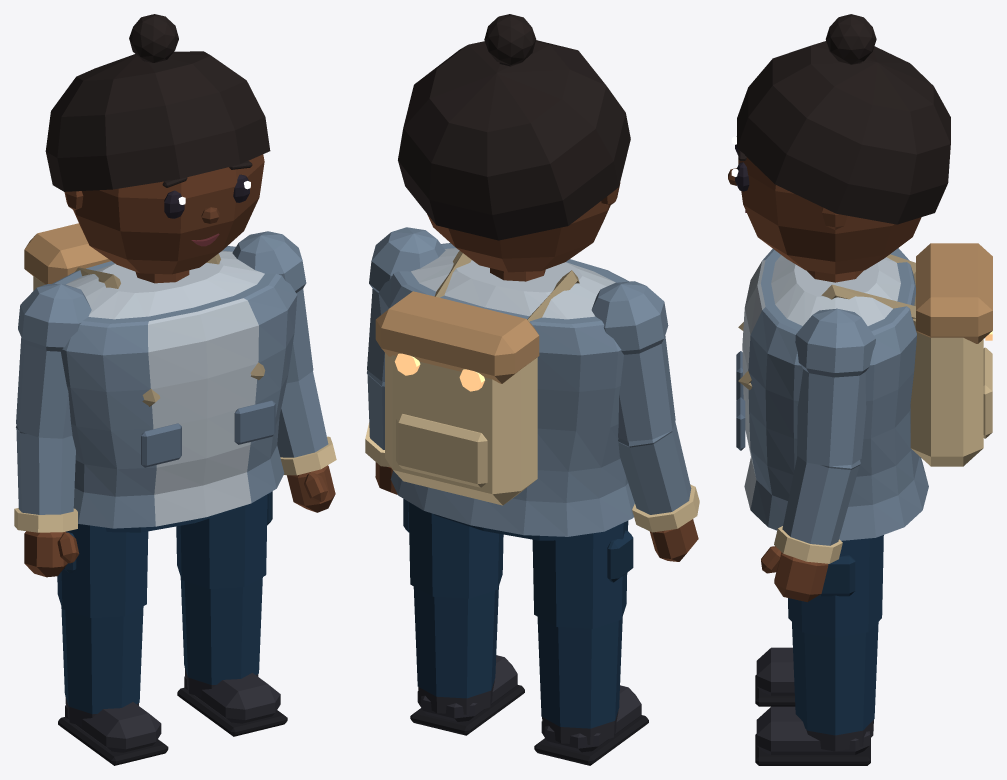
Rendered from rin-k2.glb.
3 views of the same model, side by side, from view 1: azimuth 30°, elevation 25°; view 2: azimuth 150°, elevation 25°; view 3: azimuth 270°, elevation 25° (orthographic). The views are drawn at different scales.
Parts seen in each view (by area): view 1: jacke, haare, bein_r, bein_l, arm_r, kopf, arm_l, torso, schuh_r, schuh_l, accessoire_backpack, taschen (+4 smaller); view 2: haare, accessoire_backpack, jacke, bein_r, bein_l, arm_r, torso, kopf, arm_l, schuh_r, schuh_l, hand_r; view 3: haare, jacke, accessoire_backpack, arm_l, bein_l, kopf, torso, schuh_l, hand_l, schuh_r, taschen, gesicht.
Part boxes in pixels (box(x1,y1,x2,y2)): jacke: box(52, 246, 297, 528); haare: box(45, 14, 270, 191); bein_r: box(57, 524, 148, 714); bein_l: box(176, 491, 272, 684); arm_r: box(14, 284, 91, 532); kopf: box(64, 154, 264, 274); arm_l: box(232, 231, 336, 475); torso: box(66, 250, 264, 319); schuh_r: box(58, 697, 168, 765); schuh_l: box(177, 667, 287, 736); accessoire_backpack: box(24, 223, 265, 406); taschen: box(141, 400, 275, 467); haare: box(398, 14, 630, 240); accessoire_backpack: box(375, 251, 579, 505); jacke: box(378, 243, 634, 536); bein_r: box(532, 521, 633, 728); bein_l: box(403, 499, 503, 698); arm_r: box(591, 281, 699, 532); torso: box(411, 248, 615, 319); kopf: box(427, 182, 620, 272); arm_l: box(365, 227, 445, 467); schuh_r: box(534, 685, 648, 765); schuh_l: box(410, 655, 524, 735); hand_r: box(649, 519, 698, 561); haare: box(737, 14, 950, 224); jacke: box(742, 248, 928, 540); accessoire_backpack: box(738, 243, 992, 466); arm_l: box(774, 308, 875, 563); bein_l: box(788, 535, 883, 735); kopf: box(738, 157, 921, 274); torso: box(771, 255, 900, 325); schuh_l: box(755, 706, 873, 765); hand_l: box(761, 546, 828, 602); schuh_r: box(755, 647, 795, 706); taschen: box(736, 351, 745, 450); gesicht: box(728, 136, 749, 212).
Bounding box in the file's own units: 0.0128 × 0.0269 × 0.00913.
